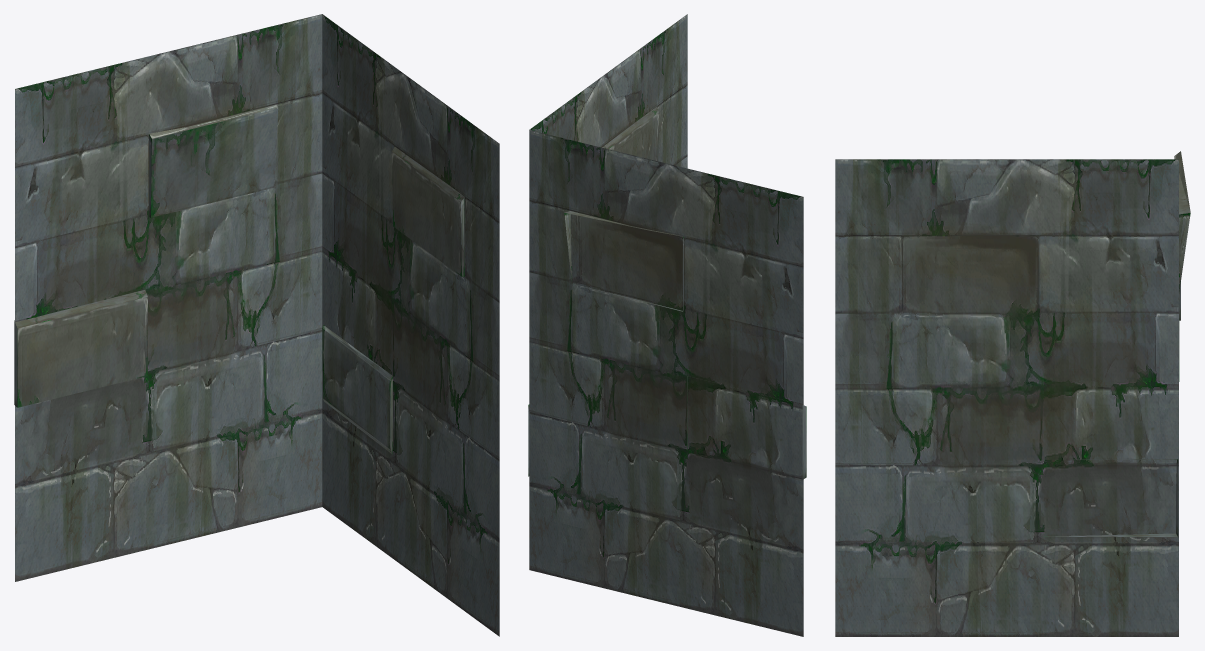
File: stemple_wall_concave_02.fbx
The picture shows the model from 3 angles, left to right: view 1: azimuth 30°, elevation 25°; view 2: azimuth 150°, elevation 25°; view 3: azimuth 270°, elevation 25°; orthographic projection. The views are drawn at different scales.
Parts seen in each view (by area): view 1: obj1.038; view 2: obj1.038; view 3: obj1.038.
Part boxes in pixels (x1,y1,x2,y2): obj1.038: [14, 14, 499, 636]; obj1.038: [528, 14, 806, 636]; obj1.038: [835, 151, 1190, 636].
Bounding box in the file's own units: 3.61 × 5.5 × 3.71.
